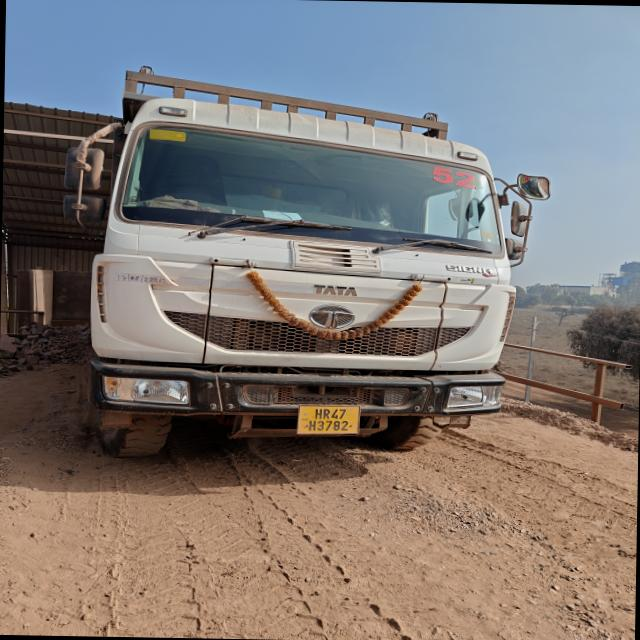license_plate: (298, 405, 360, 435)
